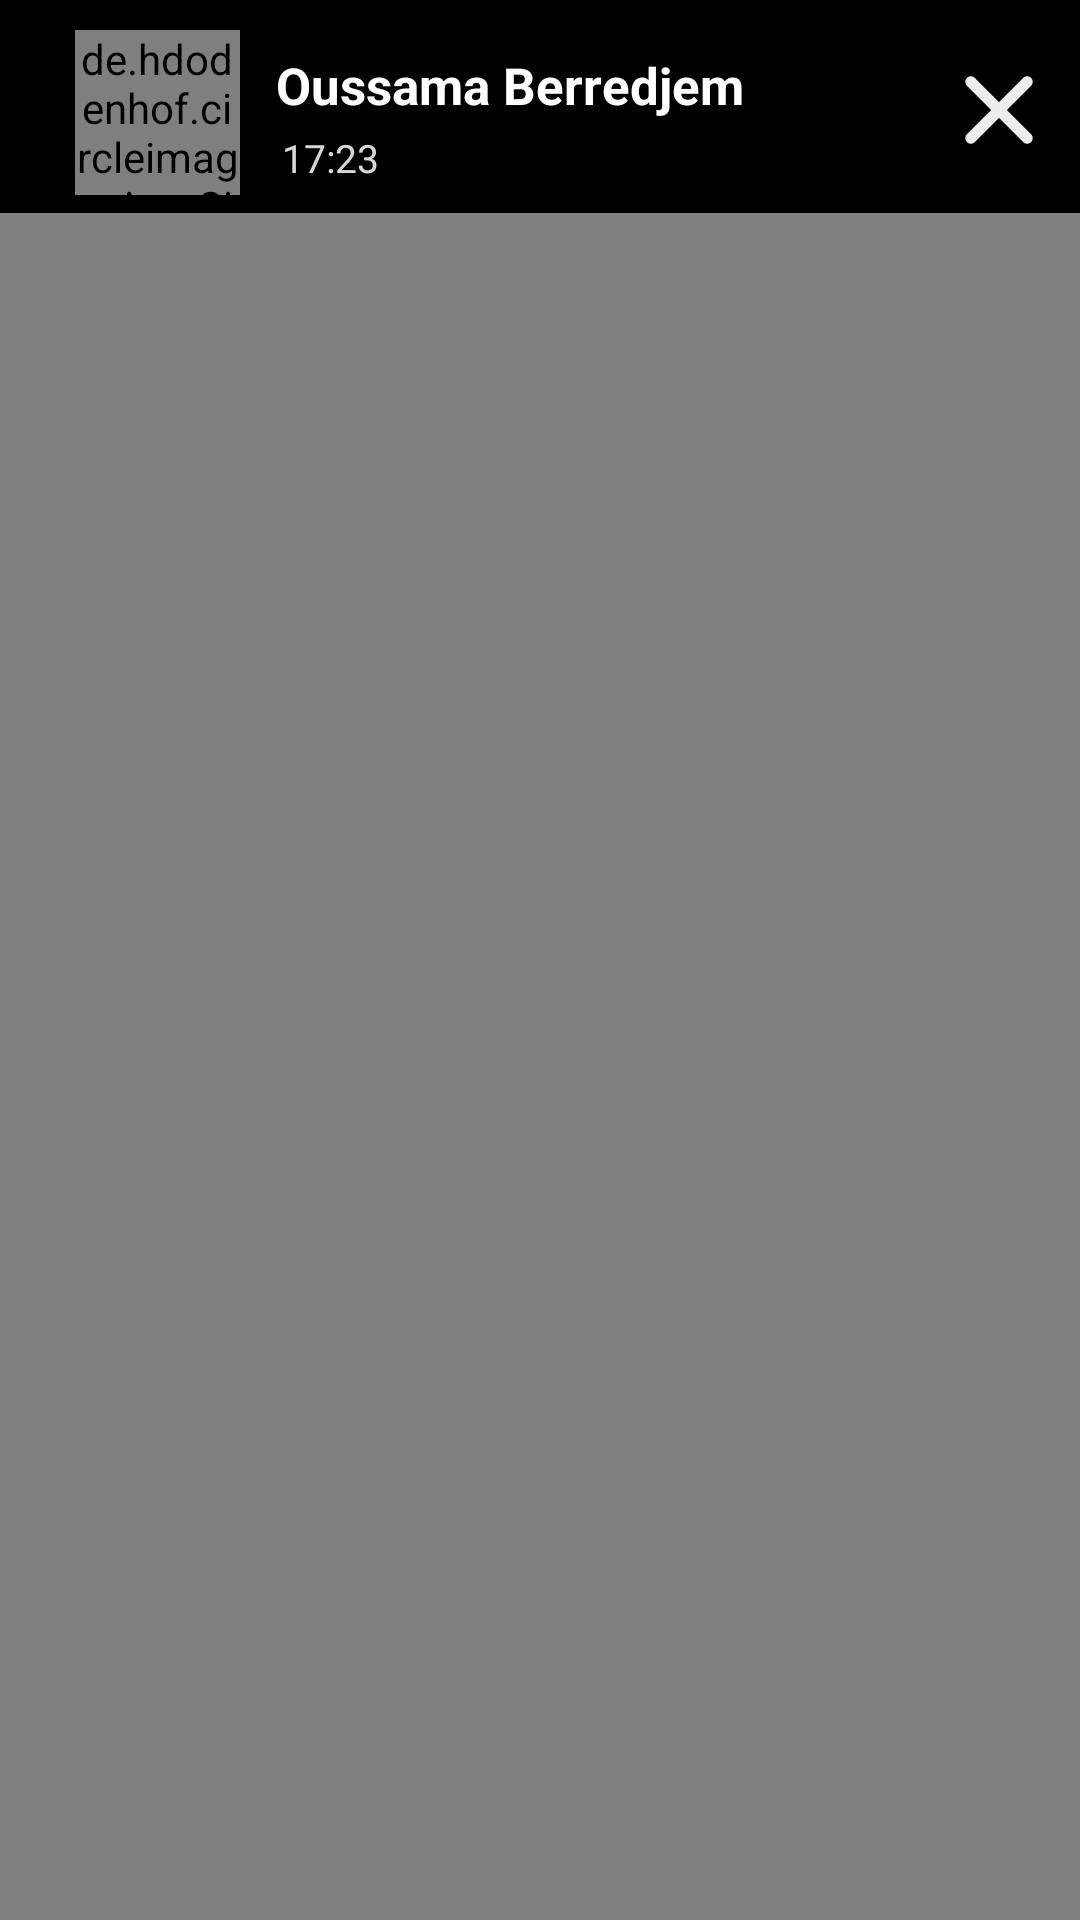

Where to tap for icons on this 1080px x 1920px app screen, as point (x, y):
process stop: point (999, 110)
